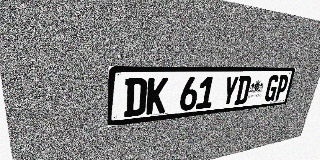1: (196, 76, 216, 109)
6: (179, 77, 200, 111)
D: (124, 78, 148, 117), (234, 76, 252, 105)
G: (264, 75, 280, 102)
K: (146, 77, 168, 115)
P: (274, 75, 290, 101)
Y: (221, 76, 239, 107)
